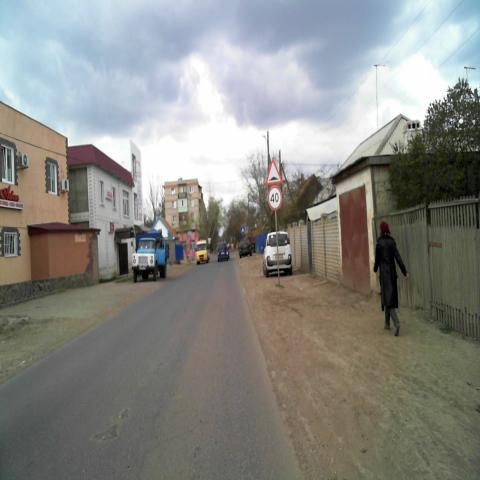1_17: (266, 158, 282, 184)
3_24: (268, 184, 282, 210)
5_20: (240, 226, 246, 235)
